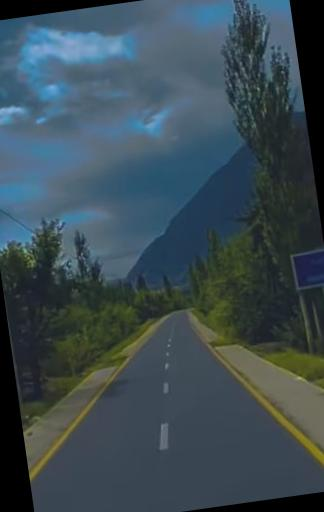sharp_turn: (33, 286, 258, 512)
